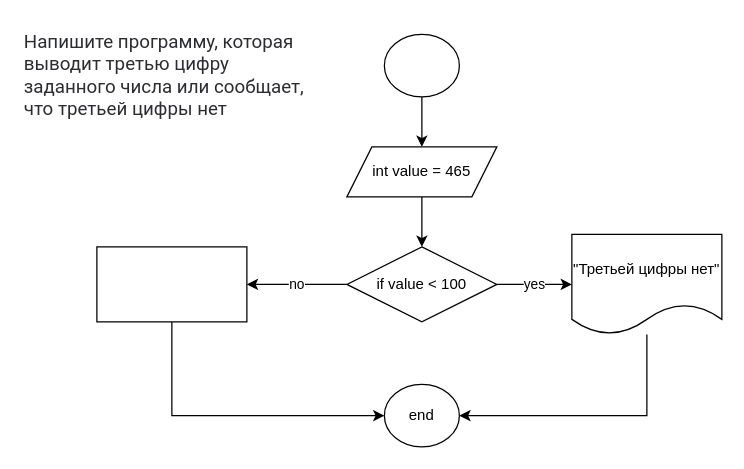
Some shapes in this 744 by 469 pixel diagram are drawn without their labels. The centre of each missing label's shape, as x and y in pixels:
int c = value %10: [171,284]
start: [421,65]
